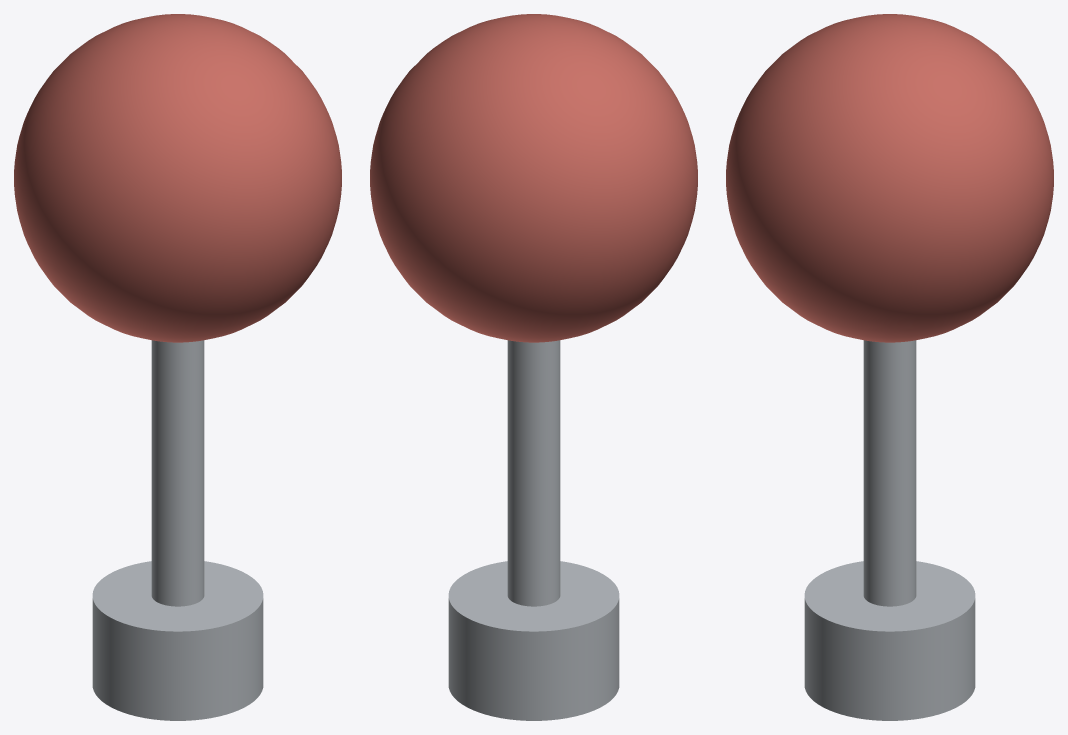
File: step_02.glb
3 views of the same model, side by side, from view 1: azimuth 30°, elevation 25°; view 2: azimuth 150°, elevation 25°; view 3: azimuth 270°, elevation 25° (orthographic).
Visible parts, largest first — view 1: part__steel spherical float, part__tail and ballast; view 2: part__steel spherical float, part__tail and ballast; view 3: part__steel spherical float, part__tail and ballast.
Boxes of the visible parts, x1,y1,x2,y2 form: part__steel spherical float: (14, 14, 341, 342); part__tail and ballast: (92, 340, 263, 720); part__steel spherical float: (370, 14, 697, 342); part__tail and ballast: (448, 340, 619, 720); part__steel spherical float: (726, 14, 1053, 342); part__tail and ballast: (804, 340, 975, 720).
Bounding box in the file's own units: 499 × 1100 × 499.
